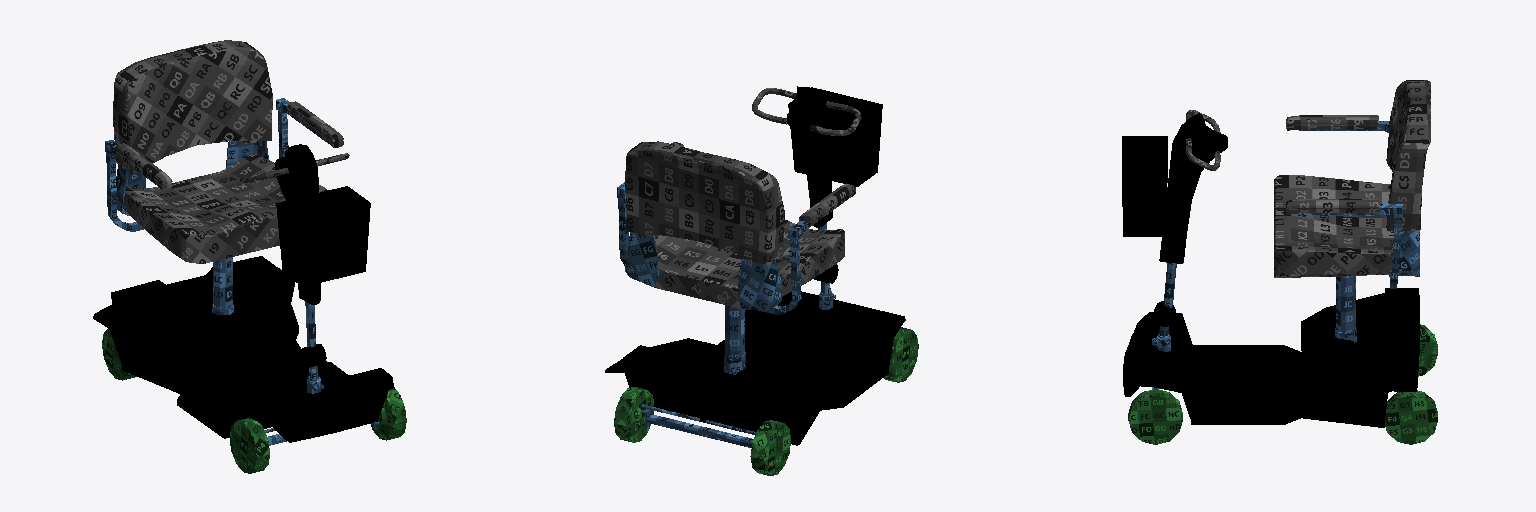
3 views of the same model, side by side, from view 1: azimuth 30°, elevation 25°; view 2: azimuth 150°, elevation 25°; view 3: azimuth 270°, elevation 25° (orthographic).
Visible parts, largest first — view 1: Floor, BackRest, Motor2, Seat, HandlePiece Basket, FrontWheel_R, HandlePiece, ArmRestCushion_R, ArmRestPole, ChairPole2, BackJoint_L, FrontWheel_R1 (+1 smaller); view 2: Floor, BackRest, Seat, HandlePiece Basket, HandlePiece, FrontWheel_R1, Motor2, BackJoint_R2, BackJoint_L, ArmRestPole, FrontWheel_R, WheelConnector1_R1 (+3 smaller); view 3: Floor, Seat, Motor2, BackRest, HandlePiece Basket, HandlePiece, FrontWheel_R1, ArmRestCushion_R, FrontWheel_R, ChairPole2, BackJoint_L, HandlePiece HandleBars.
Part boxes in pixels (x1,y1,x2,y2): Floor: (93, 256, 393, 442); BackRest: (113, 40, 272, 173); Motor2: (137, 271, 298, 378); Seat: (123, 154, 327, 263); HandlePiece Basket: (276, 186, 370, 286); FrontWheel_R: (229, 387, 406, 473); HandlePiece: (274, 144, 320, 304); ArmRestCushion_R: (115, 101, 343, 189); ArmRestPole: (106, 111, 288, 231); ChairPole2: (213, 257, 232, 308); BackJoint_L: (226, 141, 268, 168); FrontWheel_R1: (102, 329, 136, 380); Floor: (605, 291, 905, 445); BackRest: (625, 141, 784, 264); Seat: (654, 220, 844, 309); HandlePiece Basket: (788, 87, 882, 186); HandlePiece: (787, 86, 832, 227); FrontWheel_R1: (614, 387, 790, 475); Motor2: (650, 338, 810, 399); BackJoint_R2: (738, 258, 782, 310); BackJoint_L: (625, 232, 658, 286); ArmRestPole: (618, 192, 801, 314); FrontWheel_R: (884, 327, 918, 382); WheelConnector1_R1: (641, 409, 753, 447); Floor: (1123, 288, 1419, 427); Seat: (1274, 175, 1393, 277); Motor2: (1301, 293, 1384, 410); BackRest: (1386, 80, 1430, 230); HandlePiece Basket: (1122, 136, 1167, 236); HandlePiece: (1159, 113, 1227, 263); FrontWheel_R1: (1385, 324, 1437, 444); ArmRestCushion_R: (1286, 115, 1378, 214); FrontWheel_R: (1128, 334, 1182, 444); ChairPole2: (1336, 276, 1355, 332); BackJoint_L: (1399, 231, 1419, 276); HandlePiece HandleBars: (1186, 110, 1220, 170).
Size of the model in its own units: 4 by 6.18 by 5.81.
4 materials, 3 textured.